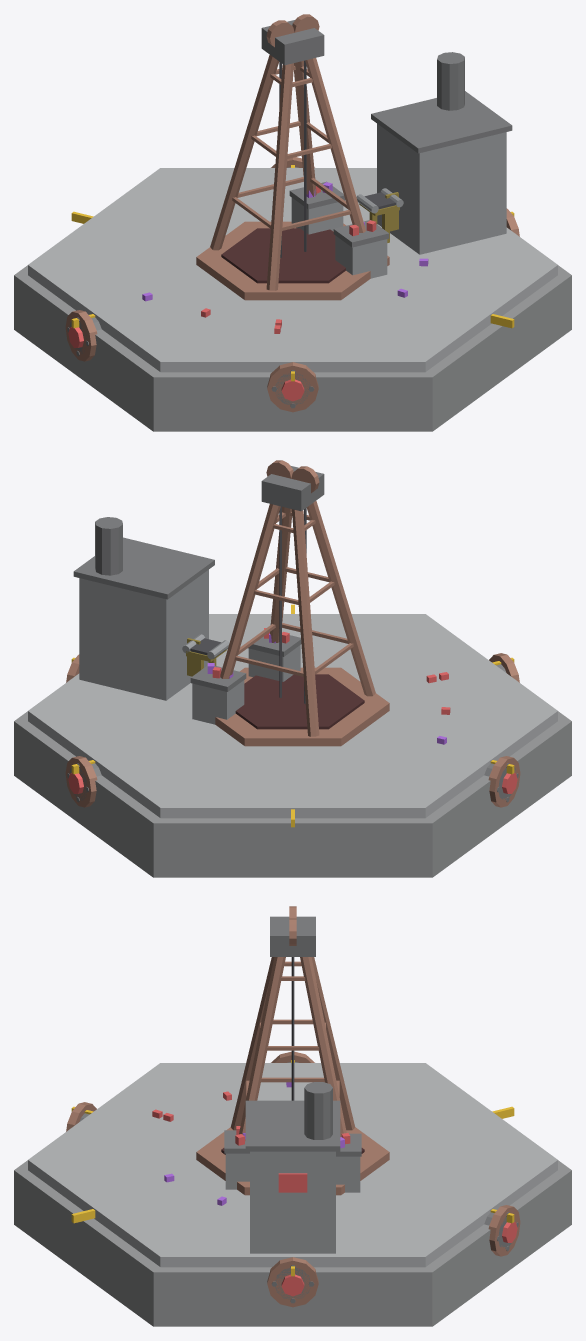
File: resonance_harvester_s2_100.glb
3 views of the same model, one above another, from view 1: azimuth 30°, elevation 25°; view 2: azimuth 150°, elevation 25°; view 3: azimuth 270°, elevation 25° (orthographic).
Visible parts, largest first — view 1: ResonanceHarvester_s2; view 2: ResonanceHarvester_s2; view 3: ResonanceHarvester_s2.
Part boxes in pixels (x1,y1,x2,y2): ResonanceHarvester_s2: [14, 14, 571, 431]; ResonanceHarvester_s2: [14, 460, 571, 877]; ResonanceHarvester_s2: [14, 906, 571, 1326].
Size of the model in its own units: 3.56 by 2.4 by 3.9.
